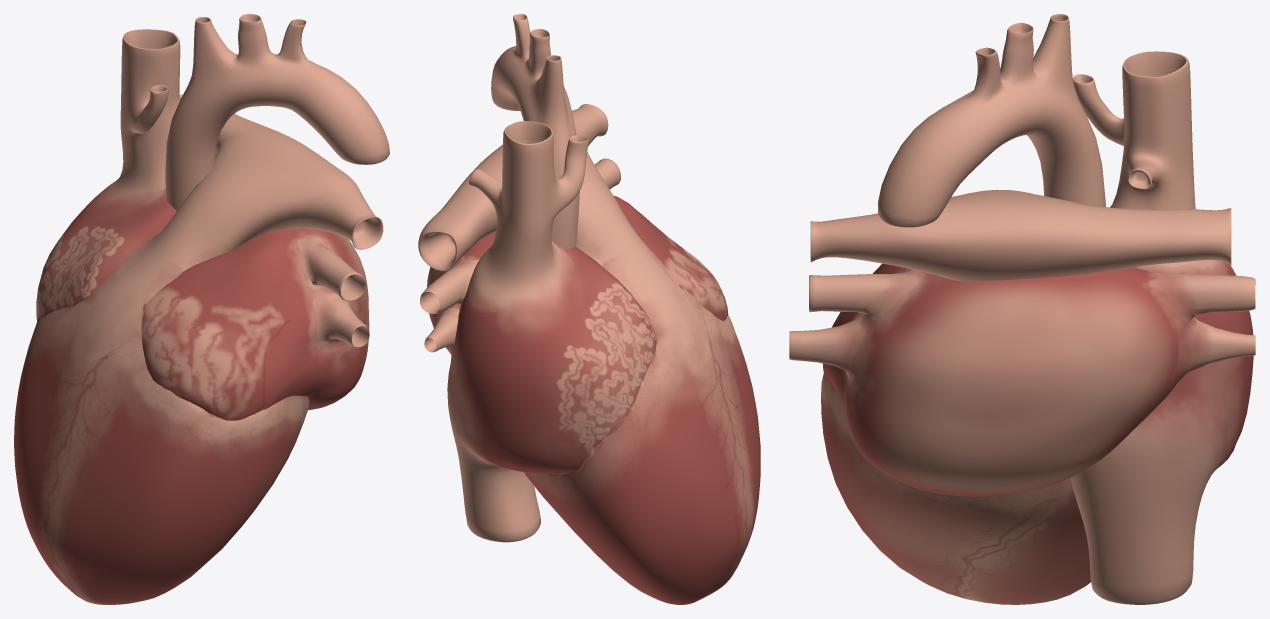
Rendered from heartbase.obj.
3 views of the same model, side by side, from view 1: azimuth 30°, elevation 25°; view 2: azimuth 150°, elevation 25°; view 3: azimuth 270°, elevation 25° (orthographic). The views are drawn at different scales.
Parts seen in each view (by area): view 1: Heart_Heart.001; view 2: Heart_Heart.001; view 3: Heart_Heart.001.
Boxes of the visible parts, bbox=[...] form: Heart_Heart.001: bbox=[14, 14, 389, 604]; Heart_Heart.001: bbox=[418, 14, 760, 604]; Heart_Heart.001: bbox=[789, 14, 1255, 604].
Bounding box in the file's own units: 1.11 × 1.92 × 1.23.
